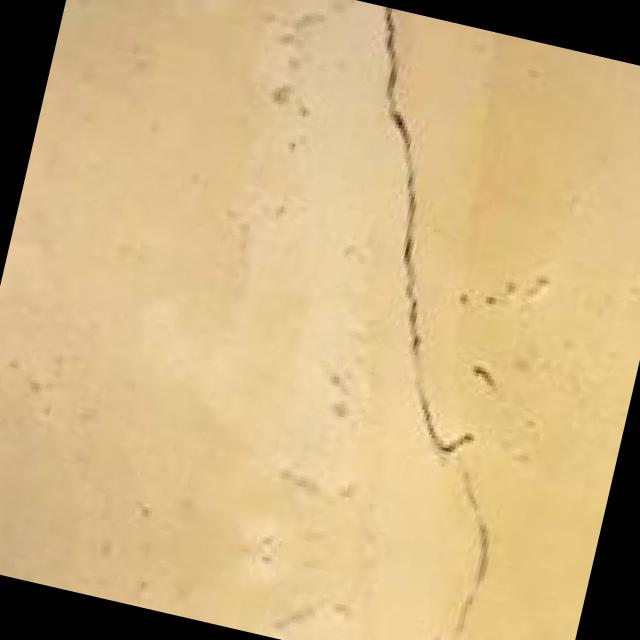crack: (214, 9, 623, 640)
